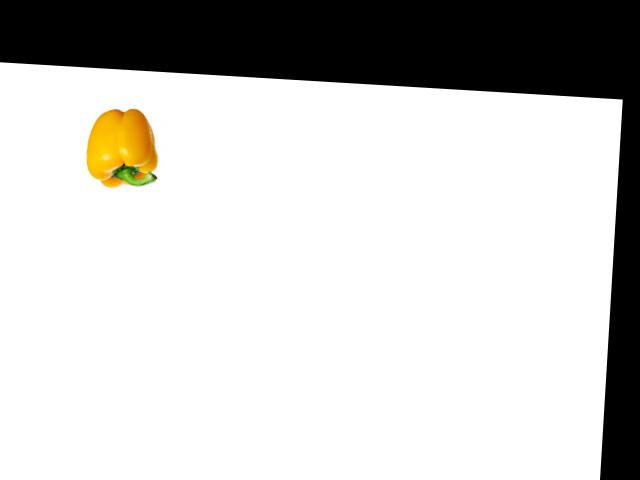bell_pepper: (78, 102, 169, 197)
